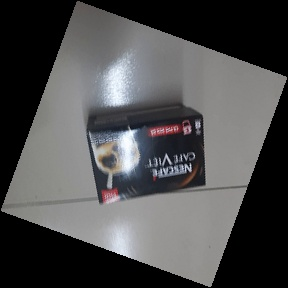CF Viet: (85, 102, 208, 204)
